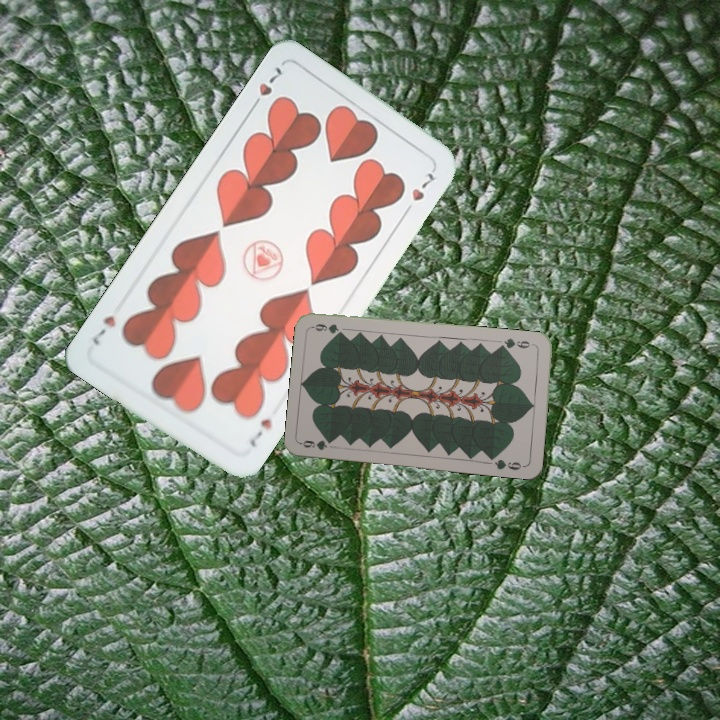G9: (497, 334, 538, 351), (298, 436, 335, 453)
H7: (246, 62, 285, 113), (246, 414, 275, 450)
